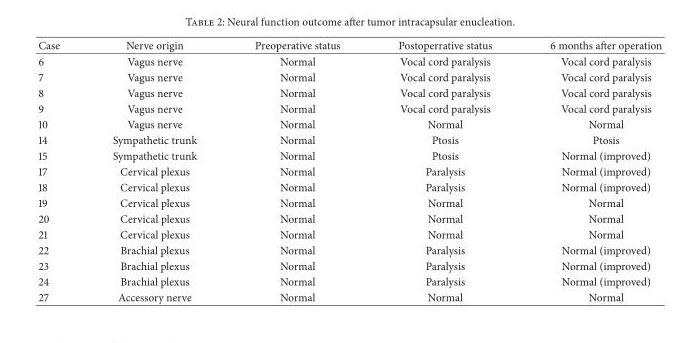table: (37, 37, 661, 304)
table column: (368, 37, 520, 304), (225, 37, 368, 304), (520, 37, 661, 304), (85, 37, 225, 304), (37, 37, 85, 304)
table column header: (37, 37, 661, 52)
table row: (37, 52, 661, 68), (37, 68, 661, 84), (37, 84, 661, 100), (37, 115, 661, 131), (37, 131, 661, 147), (37, 147, 661, 163), (37, 178, 661, 194), (37, 194, 661, 210), (37, 210, 661, 226), (37, 241, 661, 257), (37, 257, 661, 273), (37, 288, 661, 304), (37, 37, 661, 52), (37, 100, 661, 115), (37, 163, 661, 178), (37, 226, 661, 241), (37, 273, 661, 288)
